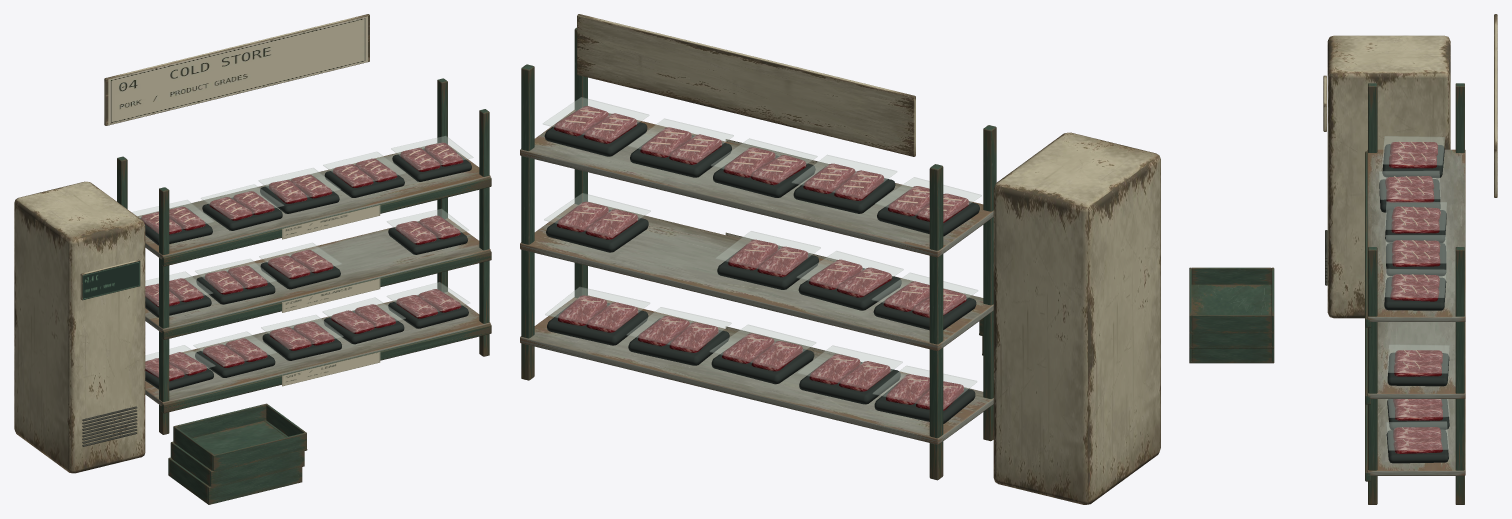
The model's file is 09_Cold_Store.glb.
3 views of the same model, side by side, from view 1: azimuth 30°, elevation 25°; view 2: azimuth 150°, elevation 25°; view 3: azimuth 270°, elevation 25° (orthographic). The views are drawn at different scales.
Parts seen in each view (by area): view 1: S6, S5, S0, S8, S4, S1, S7, S12, S2, S9, S10, S11 (+1 smaller); view 2: S6, S8, S0, S4, S7, S5, S3; view 3: S6, S5, S0, S8, S4, S7, S3.
Boxes of the visible parts, box(x1,y1,x2,y2) form: S6: box(14, 14, 369, 473); S5: box(117, 78, 491, 504); S0: box(132, 136, 473, 378); S8: box(137, 143, 490, 405); S4: box(141, 142, 463, 381); S1: box(108, 16, 367, 125); S7: box(140, 148, 471, 390); S12: box(82, 261, 140, 299); S2: box(82, 406, 137, 446); S9: box(282, 352, 380, 386); S10: box(282, 278, 380, 312); S11: box(282, 205, 380, 239); S6: box(577, 14, 1160, 504); S8: box(520, 110, 993, 444); S0: box(543, 97, 981, 409); S4: box(554, 106, 969, 410); S7: box(544, 108, 979, 423); S5: box(521, 27, 996, 480); S3: box(565, 110, 961, 387); S6: box(1323, 14, 1497, 318); S5: box(1189, 83, 1464, 504); S0: box(1379, 136, 1449, 450); S8: box(1367, 149, 1465, 475); S4: box(1385, 142, 1442, 453); S7: box(1379, 144, 1449, 463); S3: box(1394, 141, 1430, 445).
Bounding box in the file's own units: 3.88 × 2.63 × 2.25.
13 materials, 10 textured.
